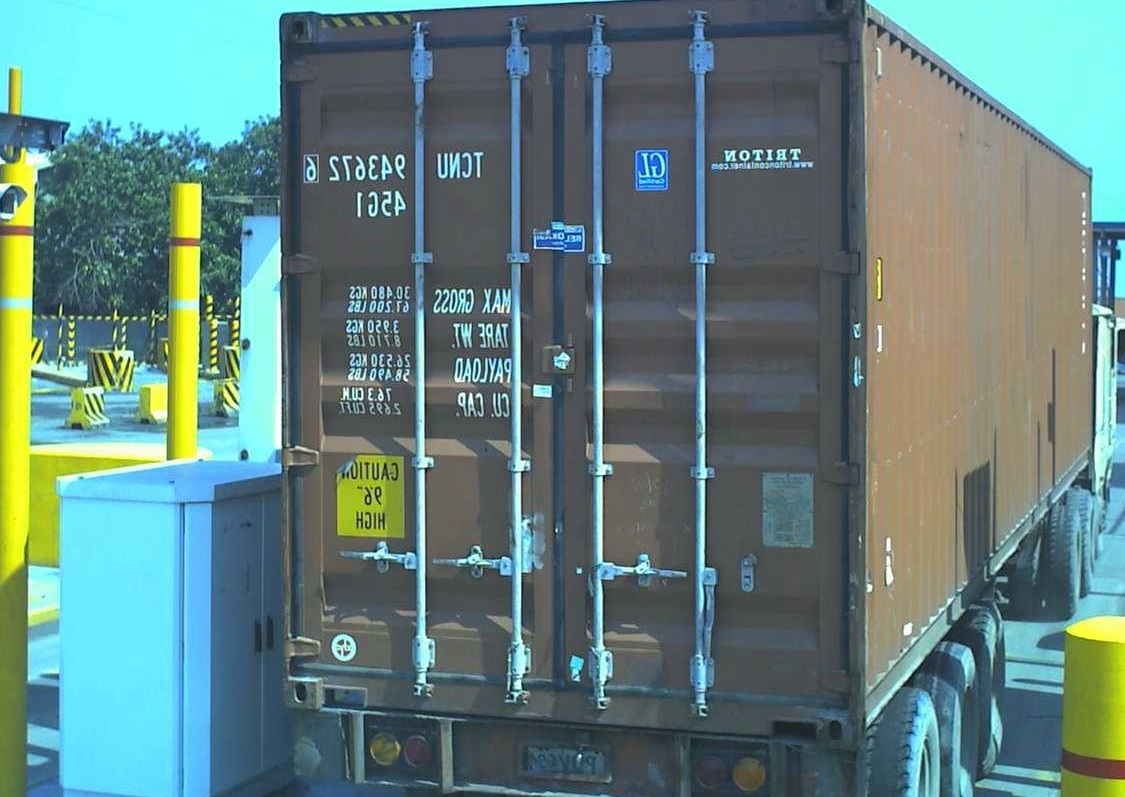container_door: (279, 1, 868, 761)
